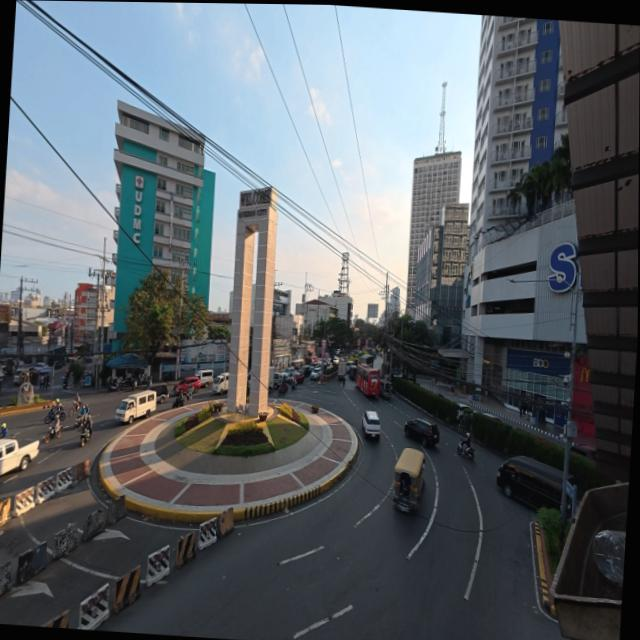Jeepneys: (393, 448, 425, 512)
bus: (355, 365, 380, 396)
car: (405, 418, 439, 446), (173, 375, 201, 396), (362, 411, 381, 438), (571, 445, 597, 460), (151, 383, 169, 403), (457, 404, 473, 423), (13, 368, 29, 384), (482, 412, 502, 422), (310, 368, 321, 380), (301, 365, 311, 377), (294, 372, 304, 383), (280, 370, 290, 380), (34, 363, 46, 371), (333, 357, 339, 365)
motorcycle: (458, 441, 475, 459), (45, 426, 62, 443), (121, 375, 137, 390), (81, 426, 92, 446), (172, 394, 185, 409), (108, 378, 121, 392), (74, 414, 86, 429), (70, 400, 80, 416), (184, 386, 194, 401), (44, 408, 53, 424), (278, 382, 288, 394), (142, 375, 152, 387), (62, 379, 68, 390), (291, 380, 297, 390)
trucks: (0, 439, 39, 476), (337, 361, 346, 380)
vans: (496, 457, 563, 509), (116, 390, 156, 423), (212, 373, 228, 394), (197, 370, 213, 388)
